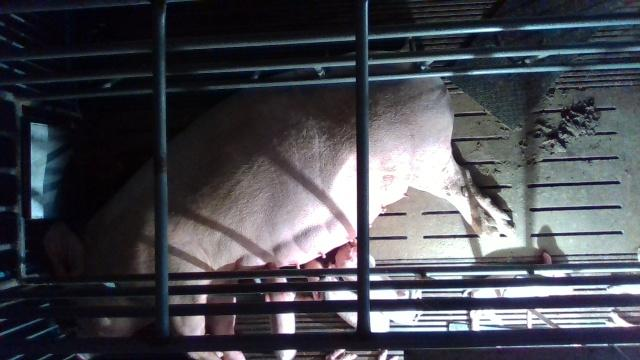piglet: (464, 252, 576, 330), (330, 242, 415, 324), (303, 260, 389, 332), (260, 261, 297, 360)
sow-sleep-lactate: (43, 50, 513, 360)
